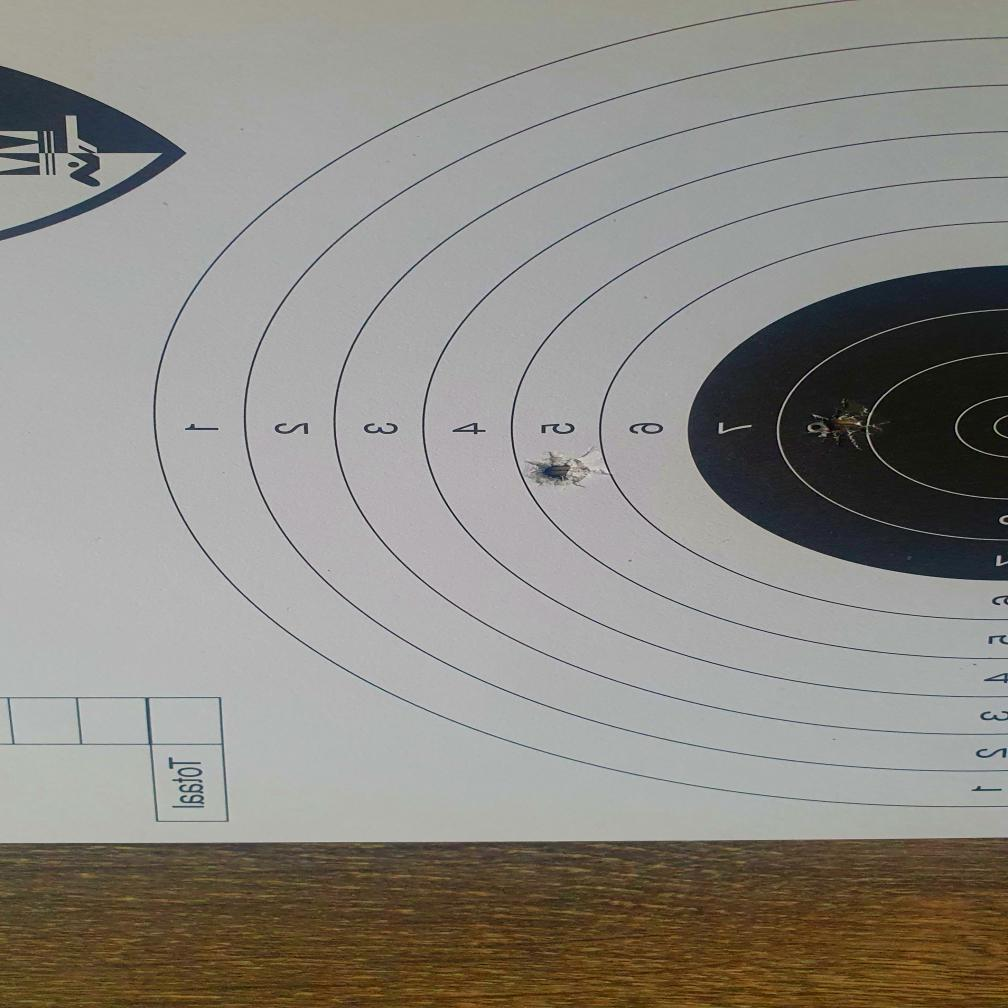5: (519, 445, 613, 491)
9: (804, 398, 888, 450)
Target: (146, 0, 1008, 811)
black_contour: (683, 263, 1008, 583)
